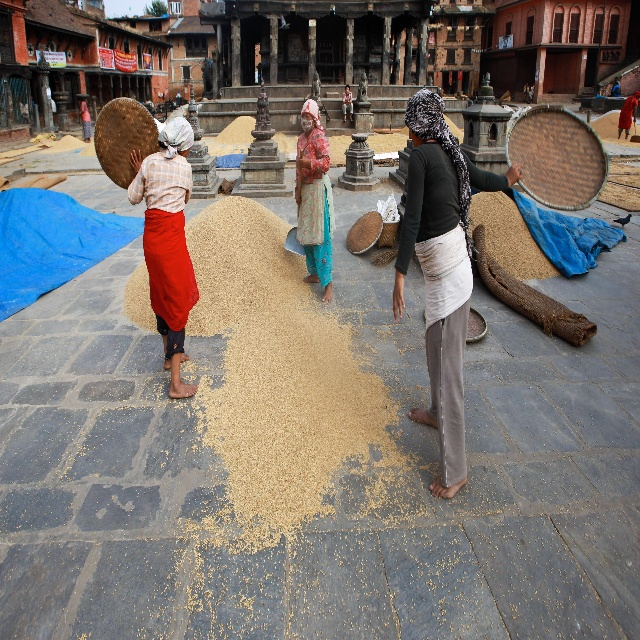Sin_guantes: (392, 274, 407, 323), (505, 162, 523, 186), (128, 149, 145, 172), (298, 154, 311, 170), (294, 191, 302, 203)
